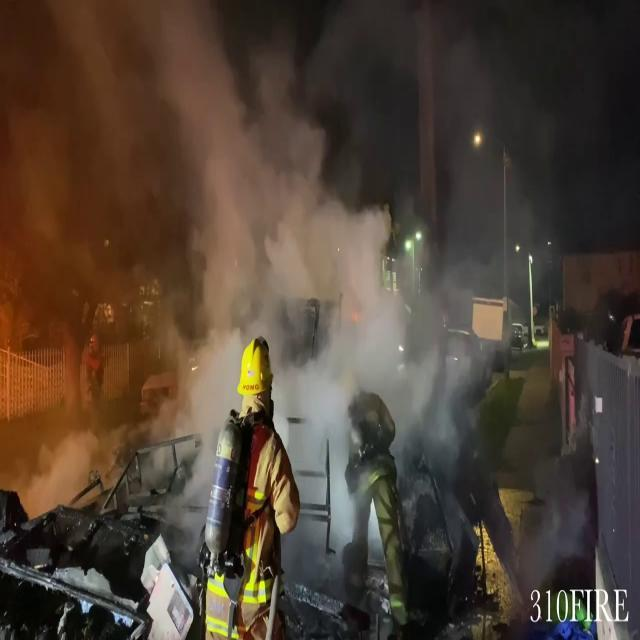Smoke: (1, 0, 489, 516)
